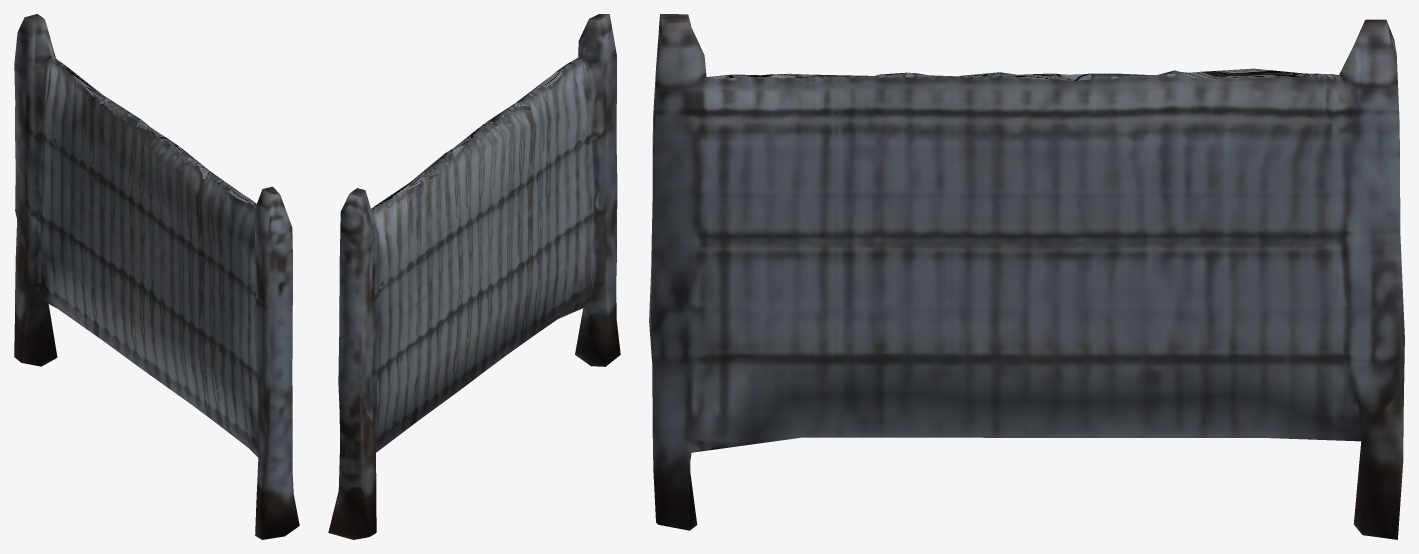
The model's file is 543764e89843_Soviet_era_concrete.fbx.
3 renders of one model, left to right at view 1: azimuth 30°, elevation 25°; view 2: azimuth 150°, elevation 25°; view 3: azimuth 270°, elevation 25°, orthographic. The views are drawn at different scales.
Visible parts, largest first — view 1: mesh; view 2: mesh; view 3: mesh.
Boxes of the visible parts, box(x1,y1,x2,y2) form: mesh: box(14, 14, 299, 539); mesh: box(328, 14, 620, 539); mesh: box(649, 14, 1404, 539).
Bounding box in the file's own units: 0.4947 × 5.4 × 3.99.
1 material, 1 textured.
